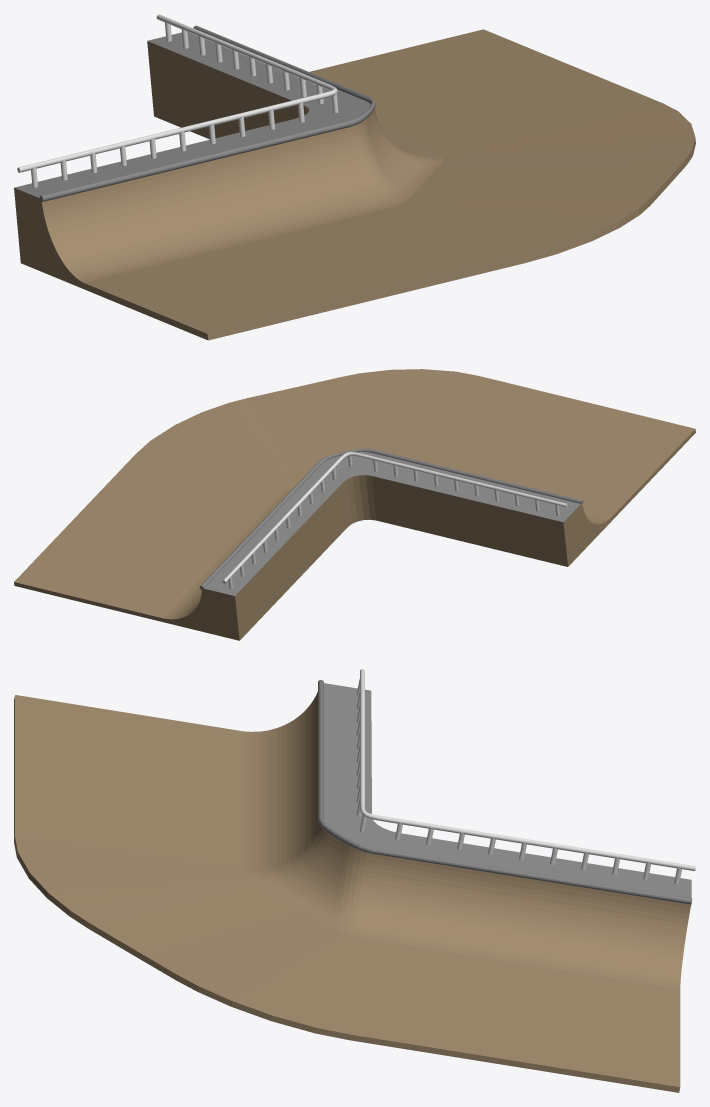
File: Rampa circular 1.fbx
The picture shows the model from 3 angles, top to bottom: view 1: azimuth 30°, elevation 25°; view 2: azimuth 150°, elevation 25°; view 3: azimuth 270°, elevation 25°; orthographic projection. The views are drawn at different scales.
Visible parts, largest first — view 1: Rampa curva 1; view 2: Rampa curva 1; view 3: Rampa curva 1.
Part boxes in pixels (x1=…): Rampa curva 1: x1=14, y1=14, x2=695, y2=340; Rampa curva 1: x1=14, y1=369, x2=695, y2=640; Rampa curva 1: x1=14, y1=669, x2=695, y2=1092.
Bounding box in the file's own units: 4079 × 915 × 4107.
